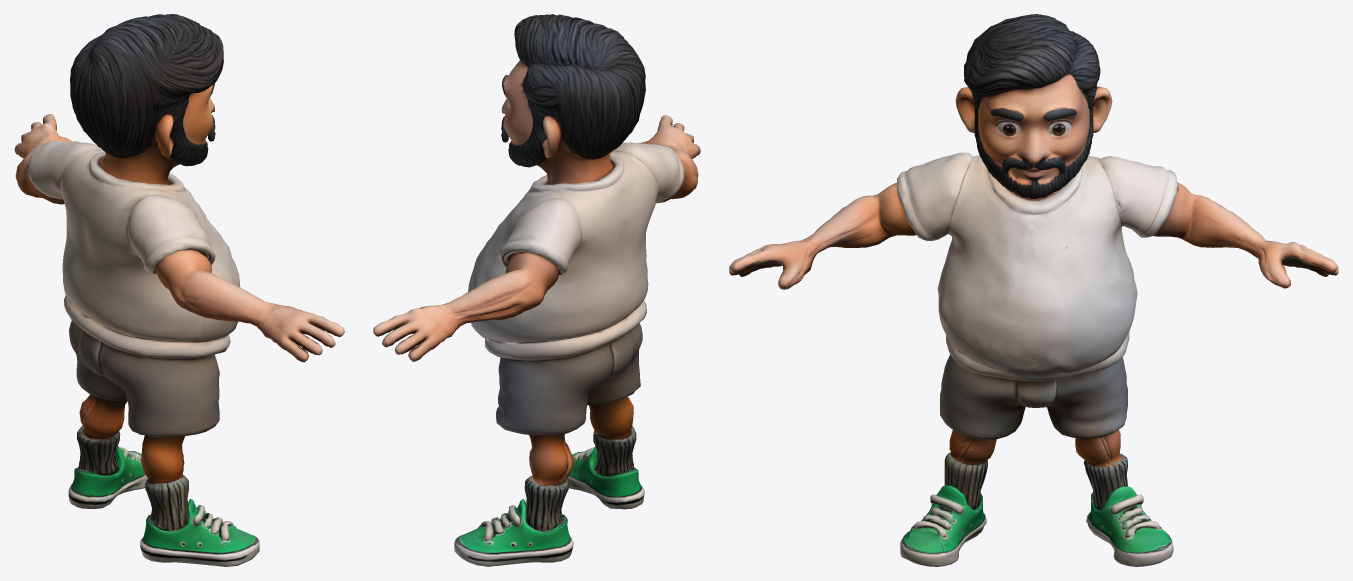
The picture shows the model from 3 angles, left to right: view 1: azimuth 30°, elevation 25°; view 2: azimuth 150°, elevation 25°; view 3: azimuth 270°, elevation 25°; orthographic projection. The views are drawn at different scales.
Parts seen in each view (by area): view 1: tripo_node_d10d4608; view 2: tripo_node_d10d4608; view 3: tripo_node_d10d4608.
Boxes of the visible parts, x1,y1,x2,y2 form: tripo_node_d10d4608: (14,14,344,566); tripo_node_d10d4608: (373,14,700,566); tripo_node_d10d4608: (729,14,1338,566).
Bounding box in the file's own units: 29.94 × 93.35 × 99.61.
Materials: 1 (1 with a texture image).
